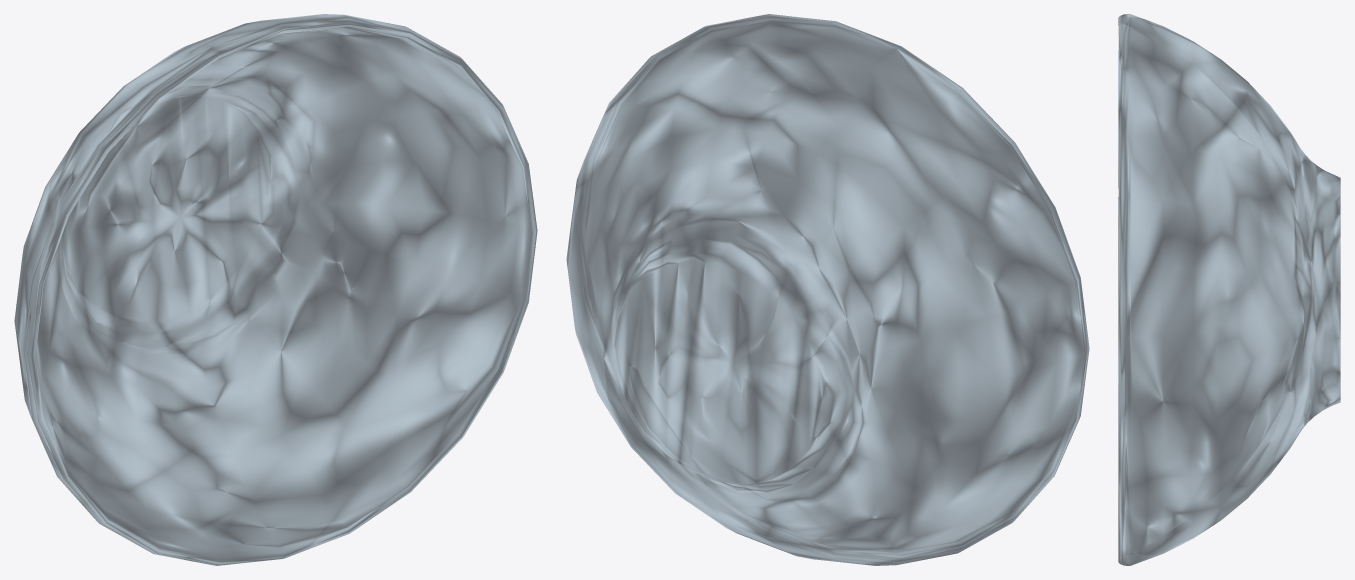
The model's file is model_align.obj.
3 views of the same model, side by side, from view 1: azimuth 30°, elevation 25°; view 2: azimuth 150°, elevation 25°; view 3: azimuth 270°, elevation 25° (orthographic). The views are drawn at different scales.
Bounding box in the file's own units: 0.1651 × 0.1651 × 0.0662.
